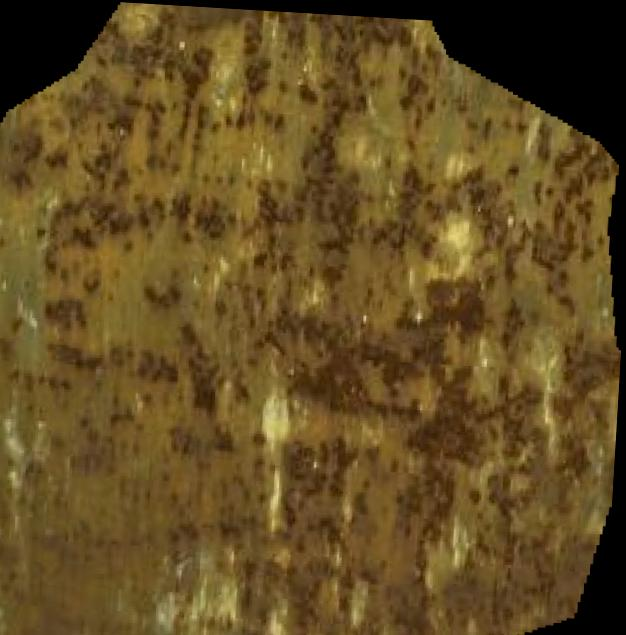Pitting Corrosion: (0, 1, 625, 635)
